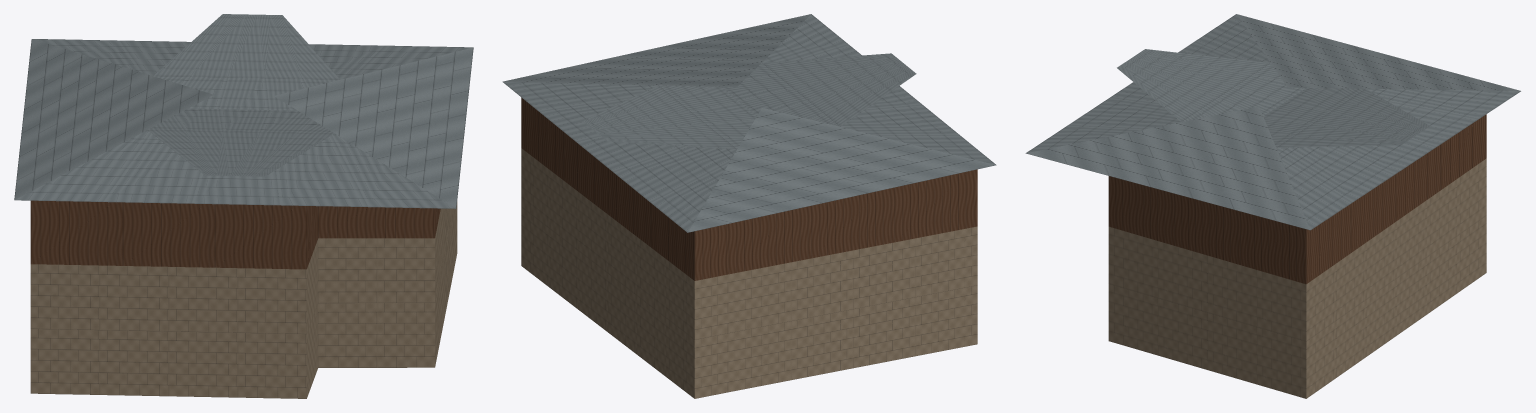
File: bld_c10_36_497.gltf
3 views of the same model, side by side, from view 1: azimuth 30°, elevation 25°; view 2: azimuth 150°, elevation 25°; view 3: azimuth 270°, elevation 25° (orthographic). The views are drawn at different scales.
Visible parts, largest first — view 1: bld_c10_36_497; view 2: bld_c10_36_497; view 3: bld_c10_36_497.
Boxes of the visible parts, x1=… form: bld_c10_36_497: x1=14, y1=14, x2=473, y2=398; bld_c10_36_497: x1=502, y1=14, x2=996, y2=398; bld_c10_36_497: x1=1025, y1=14, x2=1520, y2=398.
Bounding box in the file's own units: 18.4 × 8 × 17.82.
3 materials, 3 textured.
